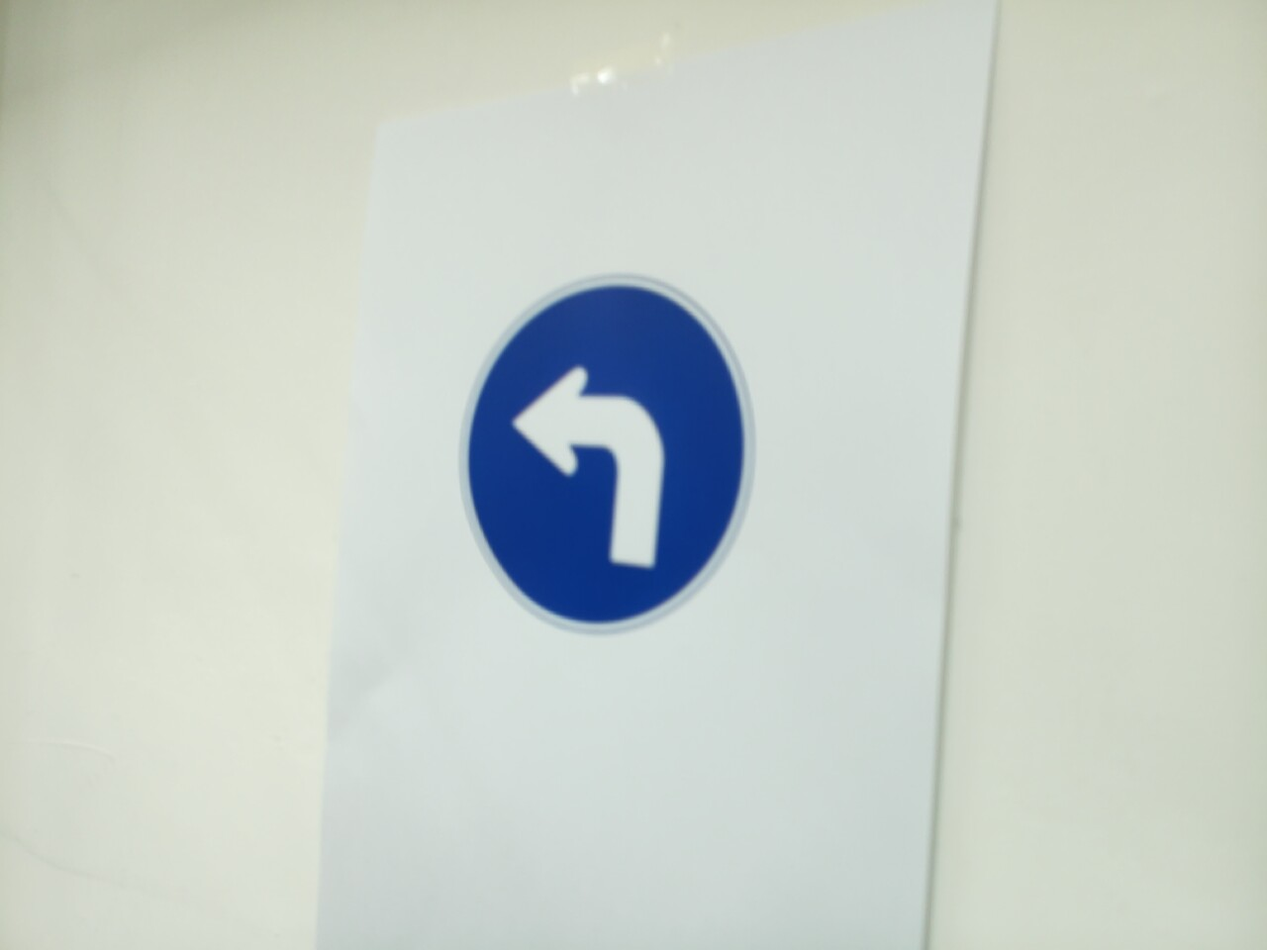left_turn: (459, 276, 753, 633)
